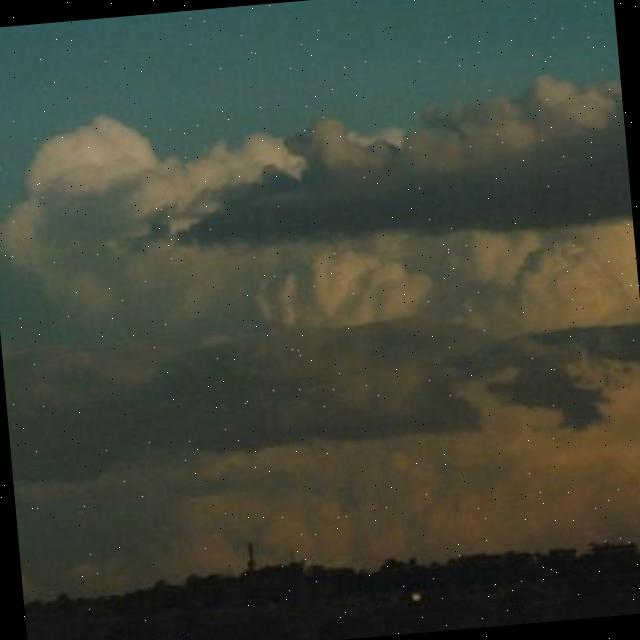Sc: (1, 60, 640, 503)
